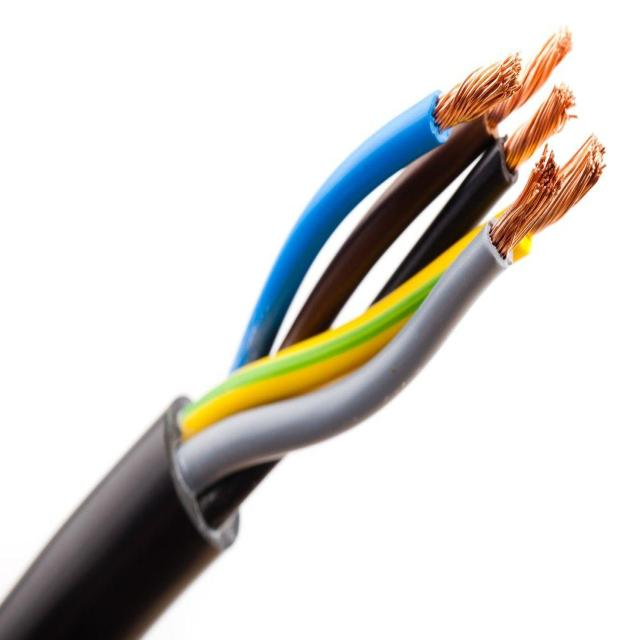inorganic: (10, 30, 630, 633)
